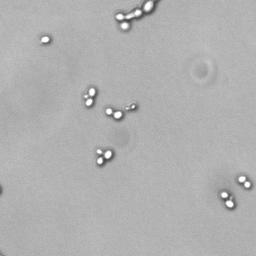budding: (92, 143, 116, 167), (216, 188, 240, 212), (80, 83, 99, 109), (234, 172, 256, 189), (104, 103, 123, 121), (123, 98, 138, 113)
cluster: (109, 1, 162, 34)
individual: (34, 31, 56, 48)
